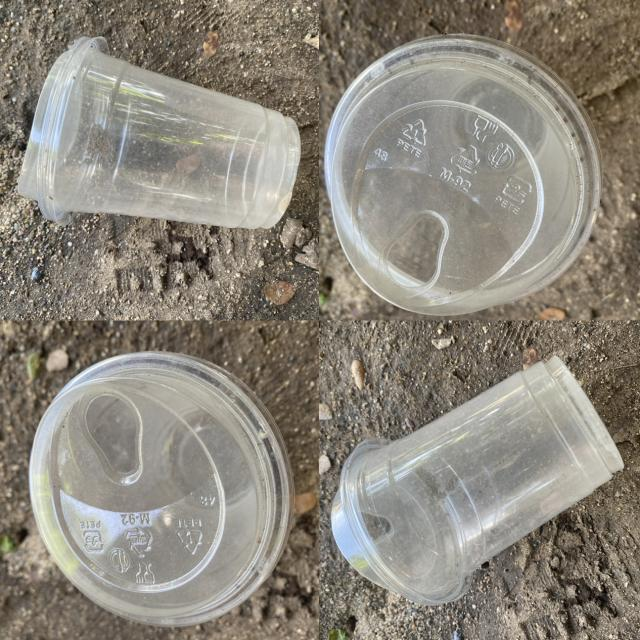plastik: (325, 35, 601, 315), (332, 356, 624, 605), (30, 352, 294, 626), (18, 37, 300, 228)
